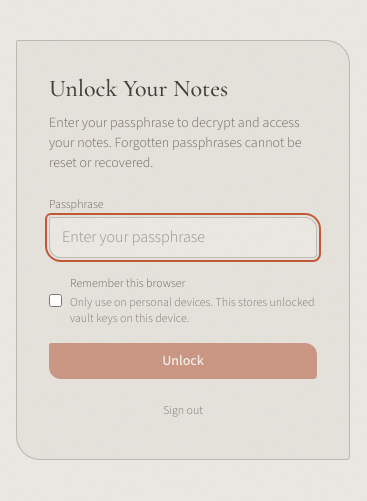
Test: PassphraseUnlock › should show error for incorrect passphrase
Type "wrong-passphrase" into the password field labelled "Passphrase" at (183, 237), box [49,217,317,258]
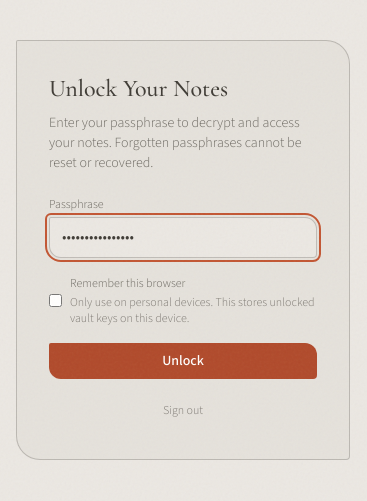
Click the button "Unlock" at (183, 361), box [49,343,317,379]
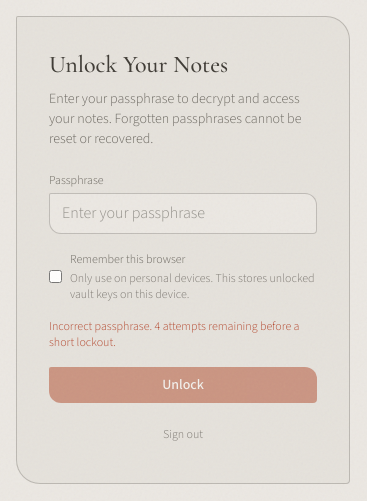
Now the text "Incorrect passphrase. 4 attempts remaining before a short lockout." is shown, box [49,319,317,351]
